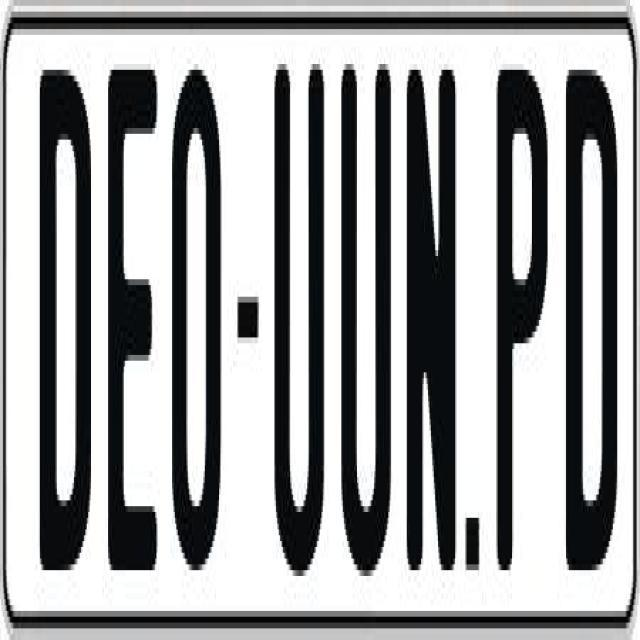0: (169, 52, 222, 558)
D: (562, 64, 616, 588), (36, 63, 92, 564)
E: (105, 58, 154, 594)
N: (405, 70, 455, 594)
P: (495, 70, 552, 582)
U: (274, 46, 332, 582), (337, 64, 388, 576)
